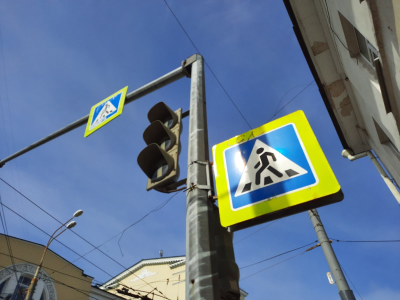crosswalk: (224, 124, 311, 206), (92, 93, 122, 125)
